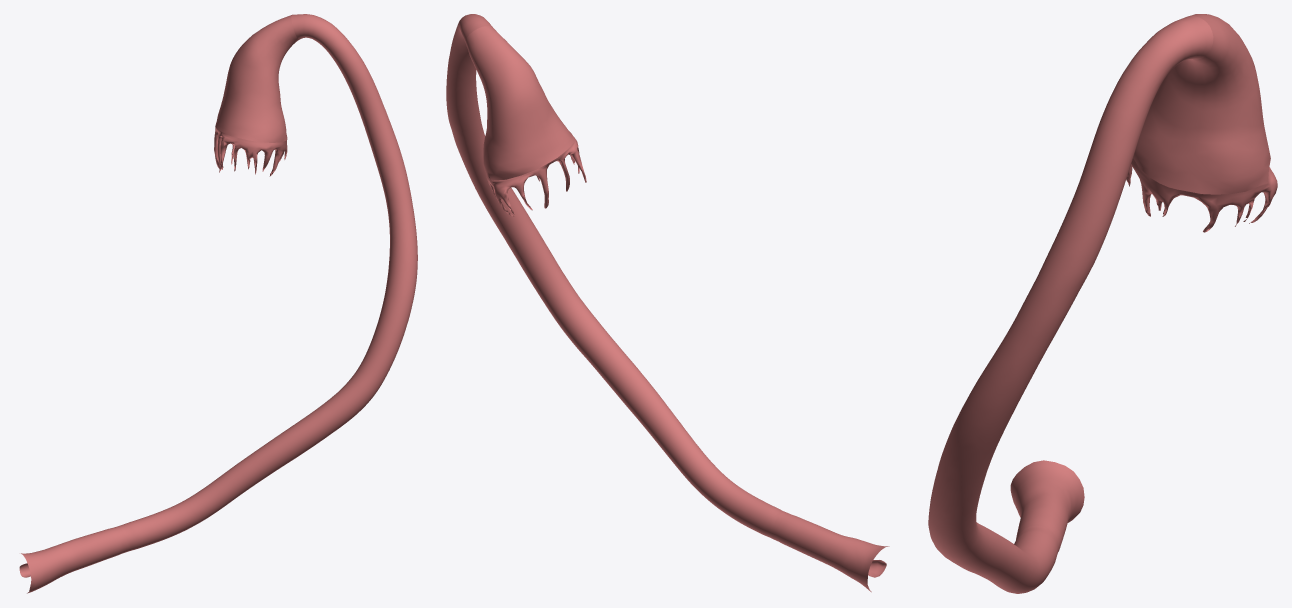
File: vh_f_fallopian_tube_l-80.glb
3 views of the same model, side by side, from view 1: azimuth 30°, elevation 25°; view 2: azimuth 150°, elevation 25°; view 3: azimuth 270°, elevation 25° (orthographic). The views are drawn at different scales.
Visible parts, largest first — view 1: VH_F_ampulla_of_uterine_tube_L, VH_F_uterine_tube_infundibulum_L, VH_F_isthmus_of_fallopian_tube_L, VH_F_fibria_of_uterine_tube_L; view 2: VH_F_ampulla_of_uterine_tube_L, VH_F_uterine_tube_infundibulum_L, VH_F_isthmus_of_fallopian_tube_L, VH_F_fibria_of_uterine_tube_L; view 3: VH_F_ampulla_of_uterine_tube_L, VH_F_uterine_tube_infundibulum_L, VH_F_isthmus_of_fallopian_tube_L, VH_F_fibria_of_uterine_tube_L.
Part boxes in pixels (box(x1,y1,x2,y2)): VH_F_ampulla_of_uterine_tube_L: box(118, 14, 417, 551); VH_F_uterine_tube_infundibulum_L: box(215, 15, 299, 142); VH_F_isthmus_of_fallopian_tube_L: box(19, 526, 127, 593); VH_F_fibria_of_uterine_tube_L: box(214, 127, 287, 176); VH_F_ampulla_of_uterine_tube_L: box(446, 14, 785, 539); VH_F_uterine_tube_infundibulum_L: box(465, 26, 574, 180); VH_F_isthmus_of_fallopian_tube_L: box(771, 512, 889, 592); VH_F_fibria_of_uterine_tube_L: box(486, 137, 586, 216); VH_F_ampulla_of_uterine_tube_L: box(928, 16, 1213, 593); VH_F_uterine_tube_infundibulum_L: box(1133, 14, 1270, 194); VH_F_isthmus_of_fallopian_tube_L: box(1010, 460, 1084, 551); VH_F_fibria_of_uterine_tube_L: box(1126, 158, 1277, 232).
Bounding box in the file's own units: 0.0386 × 0.0445 × 0.0185.
